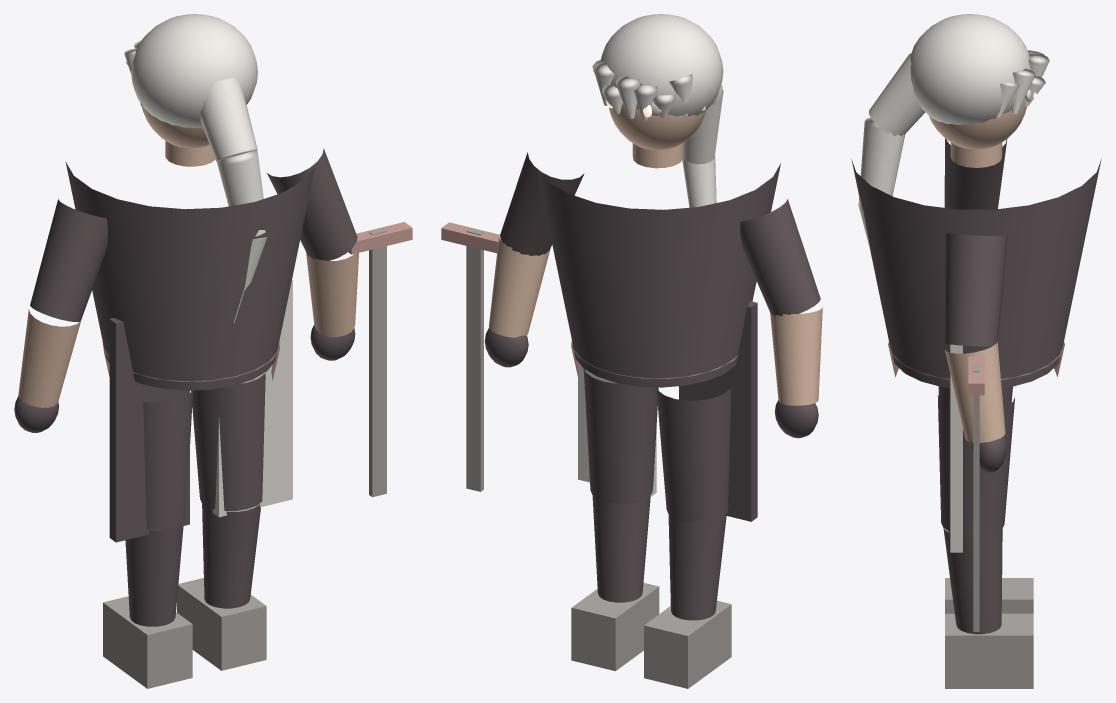
The model's file is moira-procedural-v1.glb.
3 views of the same model, side by side, from view 1: azimuth 30°, elevation 25°; view 2: azimuth 150°, elevation 25°; view 3: azimuth 270°, elevation 25° (orthographic). The views are drawn at different scales.
Visible parts, largest first — view 1: Outfit_Torso, Hair_Cap, Body_Thigh_R, Outfit_CoatTail_L, Body_UpperArm_L, Outfit_Boot_L, Body_Thigh_L, Outfit_CoatTail_R, Outfit_Boot_R, Body_Shin_R, Body_Shin_L, Weapon_SwordBlade (+10 smaller); view 2: Outfit_Torso, Body_Thigh_L, Body_Thigh_R, Hair_Cap, Outfit_CoatTail_L, Body_UpperArm_L, Outfit_Boot_L, Outfit_Boot_R, Body_Shin_R, Body_Shin_L, Weapon_SwordBlade, Body_Forearm_L (+11 smaller); view 3: Outfit_Torso, Hair_Cap, Body_UpperArm_R, Outfit_Boot_R, Body_Thigh_R, Body_Shin_R, Body_Forearm_R, Body_UpperArm_L, Hair_Ponytail_0, Hair_Ponytail_1, Outfit_CoatTail_R, Body_Head (+8 smaller).
Boxes of the visible parts, box(x1,y1,x2,y2) form: Outfit_Torso: box(65, 161, 315, 390); Hair_Cap: box(131, 14, 257, 128); Body_Thigh_R: box(191, 372, 265, 510); Outfit_CoatTail_L: box(109, 318, 189, 542); Body_UpperArm_L: box(30, 199, 107, 322); Outfit_Boot_L: box(103, 596, 192, 688); Body_Thigh_L: box(143, 390, 192, 529); Outfit_CoatTail_R: box(212, 280, 292, 517); Outfit_Boot_R: box(177, 578, 266, 670); Body_Shin_R: box(202, 503, 260, 608); Body_Shin_L: box(125, 523, 183, 626); Weapon_SwordBlade: box(369, 228, 386, 497); Outfit_Torso: box(536, 163, 780, 387); Body_Thigh_L: box(656, 387, 731, 522); Body_Thigh_R: box(583, 369, 658, 503); Hair_Cap: box(600, 14, 723, 116); Outfit_CoatTail_L: box(679, 301, 757, 521); Body_UpperArm_L: box(740, 199, 820, 316); Outfit_Boot_L: box(644, 600, 731, 688); Outfit_Boot_R: box(571, 583, 659, 671); Body_Shin_R: box(592, 495, 650, 602); Body_Shin_L: box(668, 514, 726, 620); Weapon_SwordBlade: box(466, 229, 483, 491); Body_Forearm_L: box(770, 307, 822, 405); Outfit_Torso: box(851, 158, 1101, 387); Hair_Cap: box(910, 14, 1030, 124); Body_UpperArm_R: box(944, 232, 1007, 346); Outfit_Boot_R: box(945, 613, 1033, 688); Body_Thigh_R: box(937, 395, 1014, 536); Body_Shin_R: box(943, 528, 1002, 634); Body_Forearm_R: box(944, 342, 1005, 442); Body_UpperArm_L: box(944, 138, 1007, 209); Hair_Ponytail_0: box(869, 53, 925, 135); Hair_Ponytail_1: box(859, 117, 905, 202); Outfit_CoatTail_R: box(950, 344, 962, 552); Body_Head: box(928, 99, 1026, 149).
Bounding box in the file's own units: 1.22 × 1.95 × 0.6915.
